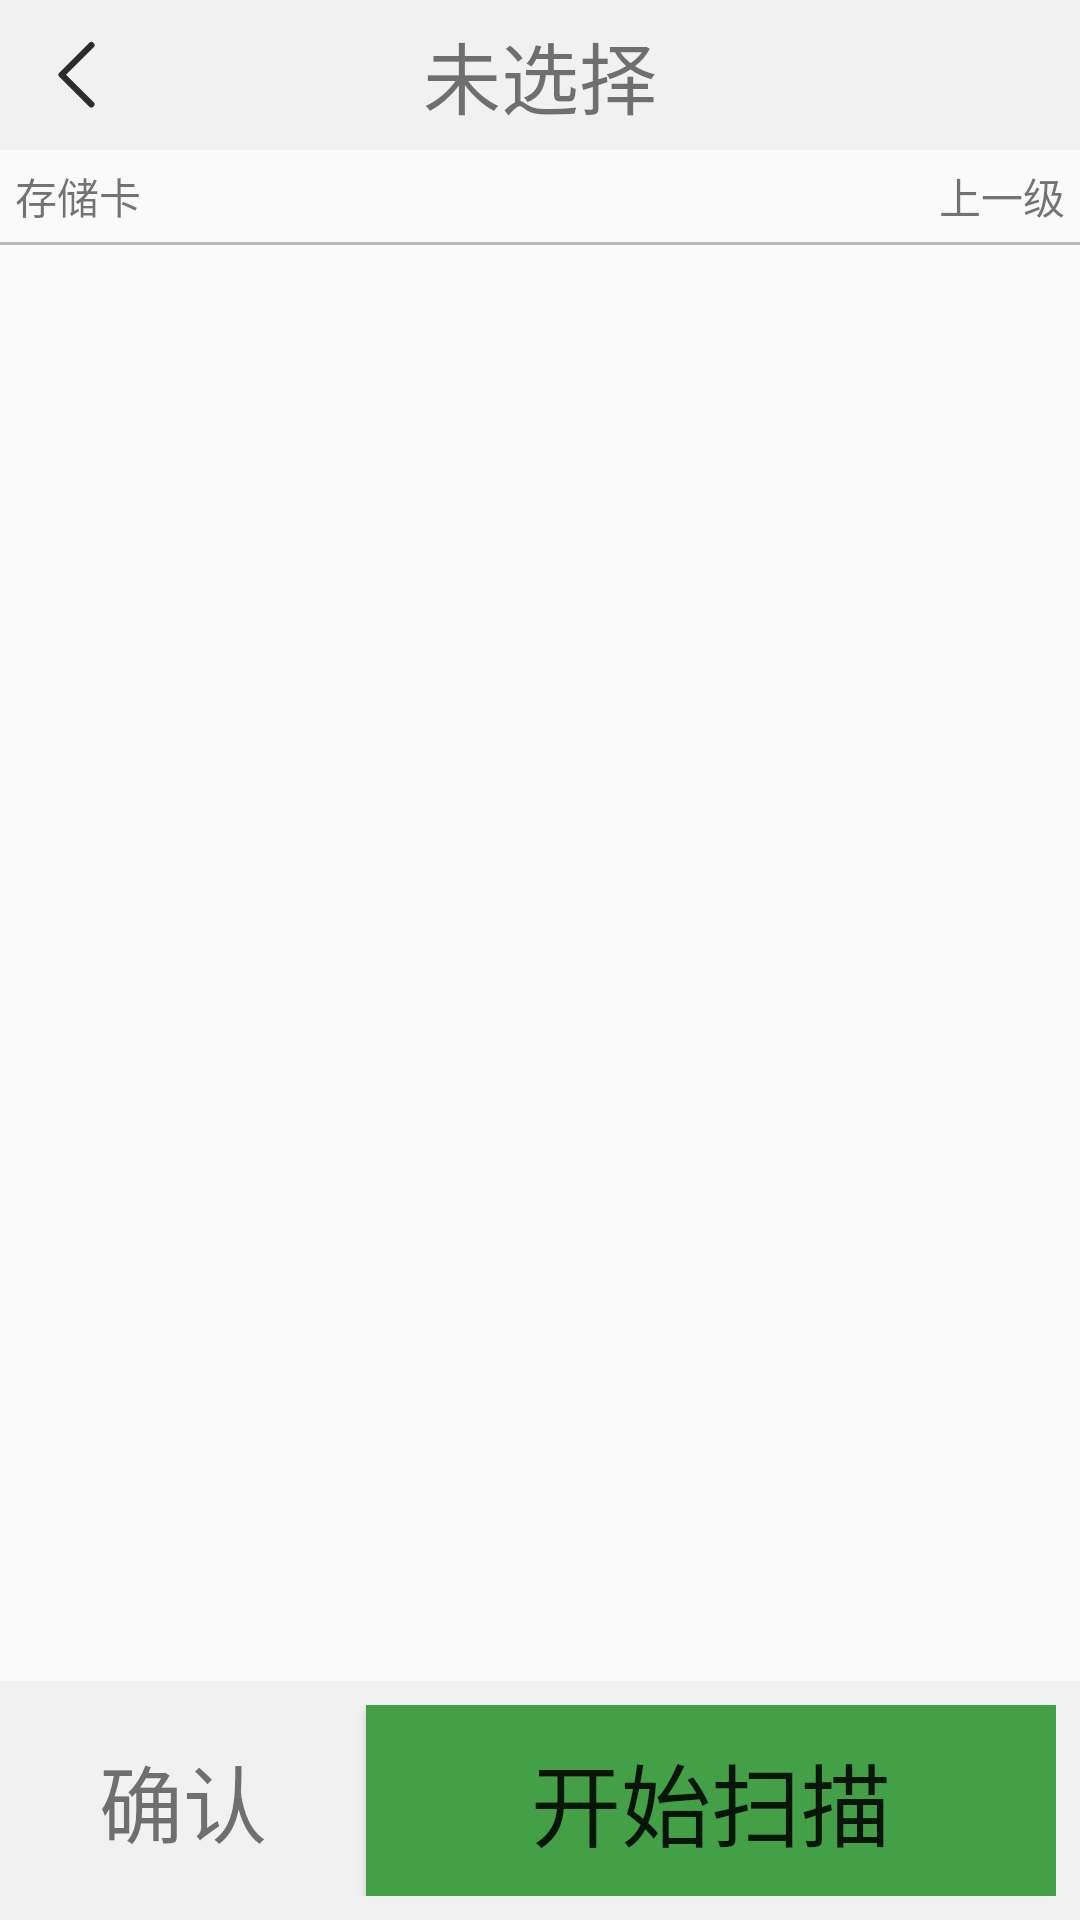

Named icons in this screenshot (1080px x 1920px) and their bounding boxes, (x1, y1, x2, y2):
back: (58, 41, 95, 108)
